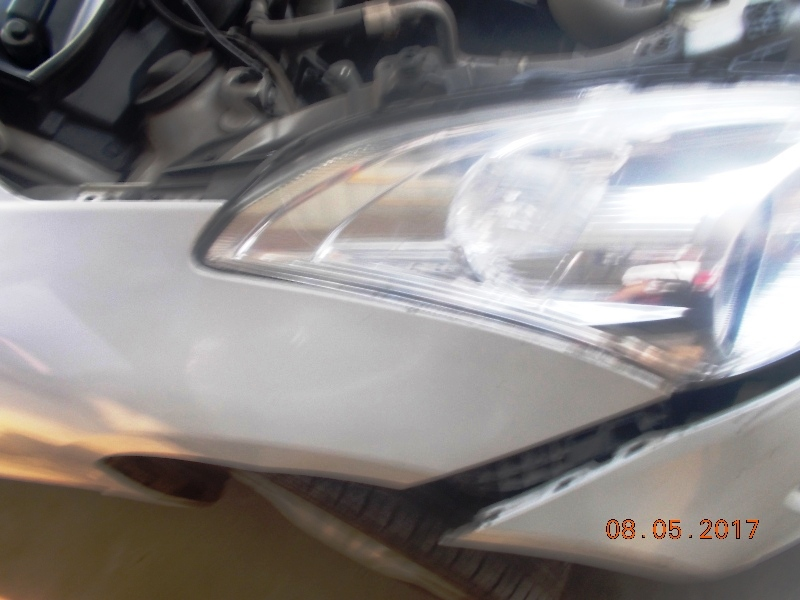Dislocation: (409, 389, 675, 538)
